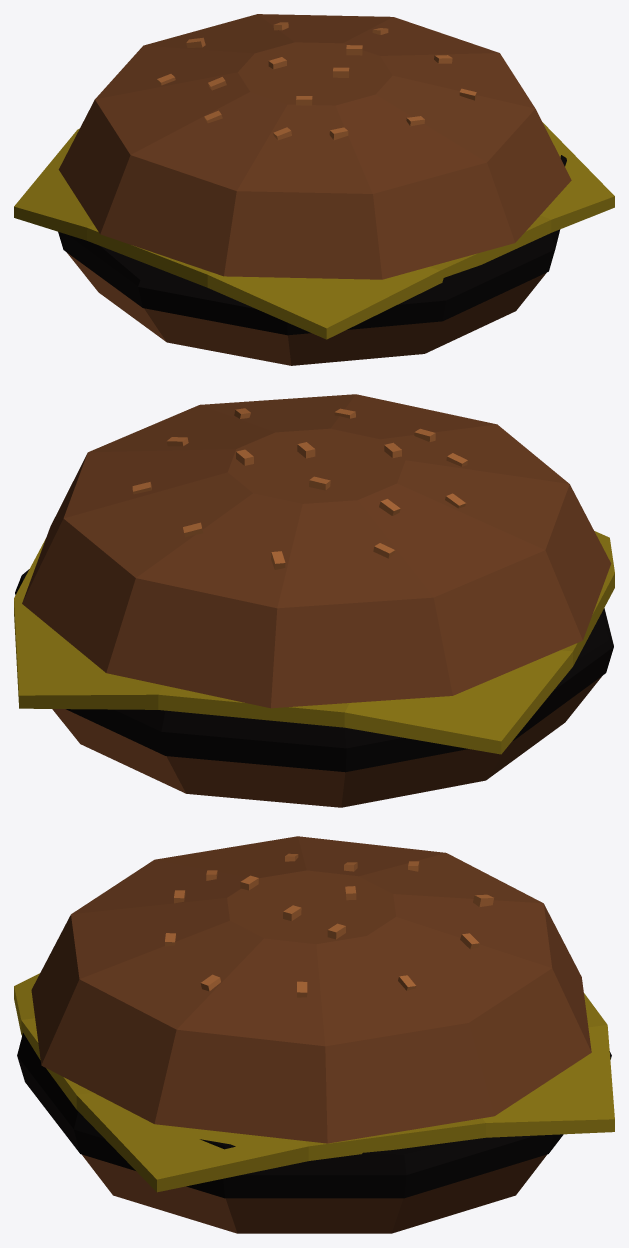
Rendered from hamburguesa.FBX.
3 renders of one model, top to bottom at view 1: azimuth 30°, elevation 25°; view 2: azimuth 150°, elevation 25°; view 3: azimuth 270°, elevation 25°, orthographic. The views are drawn at different scales.
Visible parts, largest first — view 1: hamburguesa; view 2: hamburguesa; view 3: hamburguesa.
Part boxes in pixels (box(x1,y1,x2,y2)): hamburguesa: box(14, 14, 614, 365); hamburguesa: box(14, 394, 614, 807); hamburguesa: box(14, 836, 614, 1233).
Bounding box in the file's own units: 12.82 × 5.5 × 12.82.
